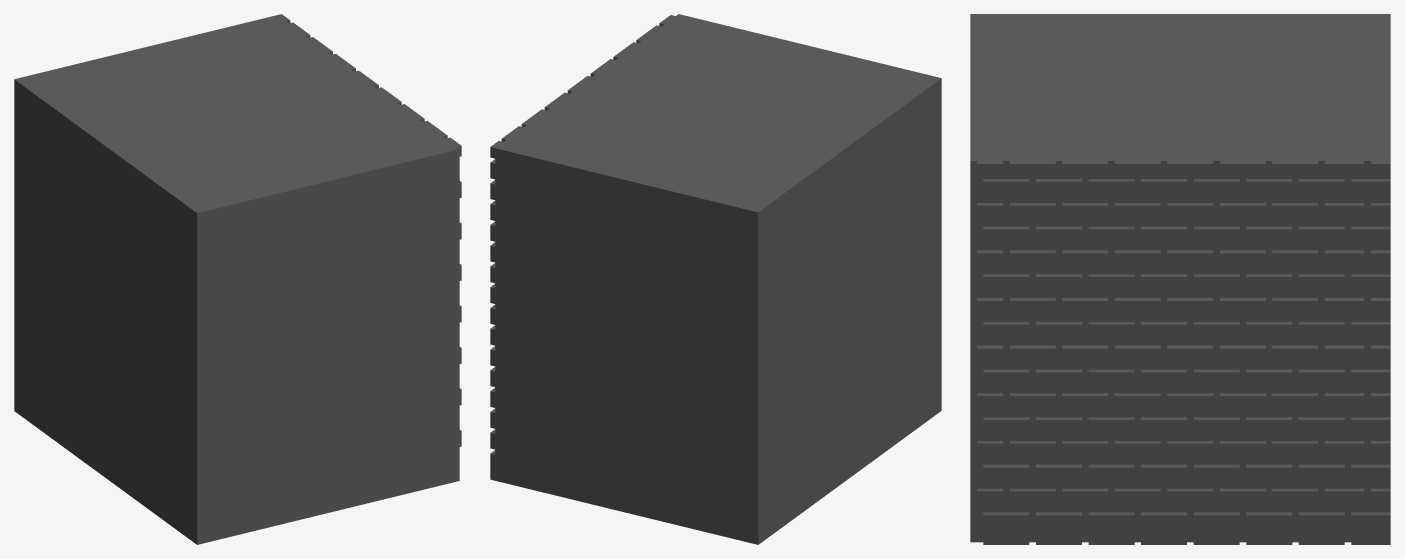
File: MapWIP_v02-7.obj
3 views of the same model, side by side, from view 1: azimuth 30°, elevation 25°; view 2: azimuth 150°, elevation 25°; view 3: azimuth 270°, elevation 25° (orthographic). The views are drawn at different scales.
Bounding box in the file's own units: 5.4 × 6.4 × 6.4.
Materials: 1 (1 with a texture image).
